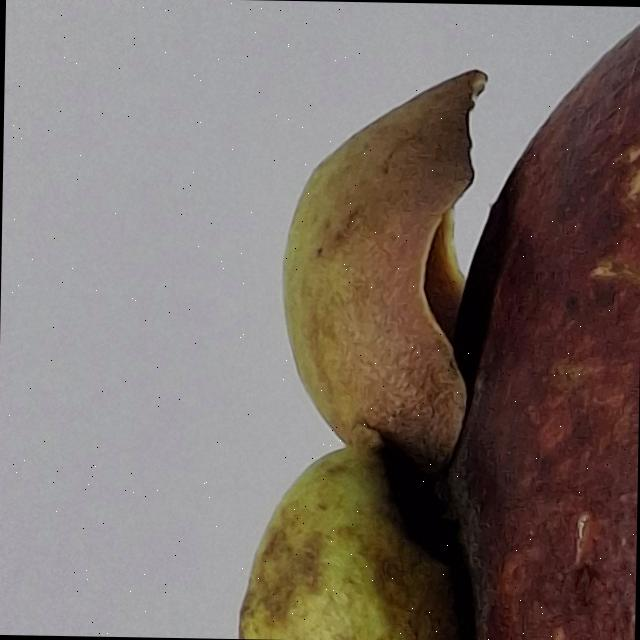mangosteen: (69, 0, 640, 640)
